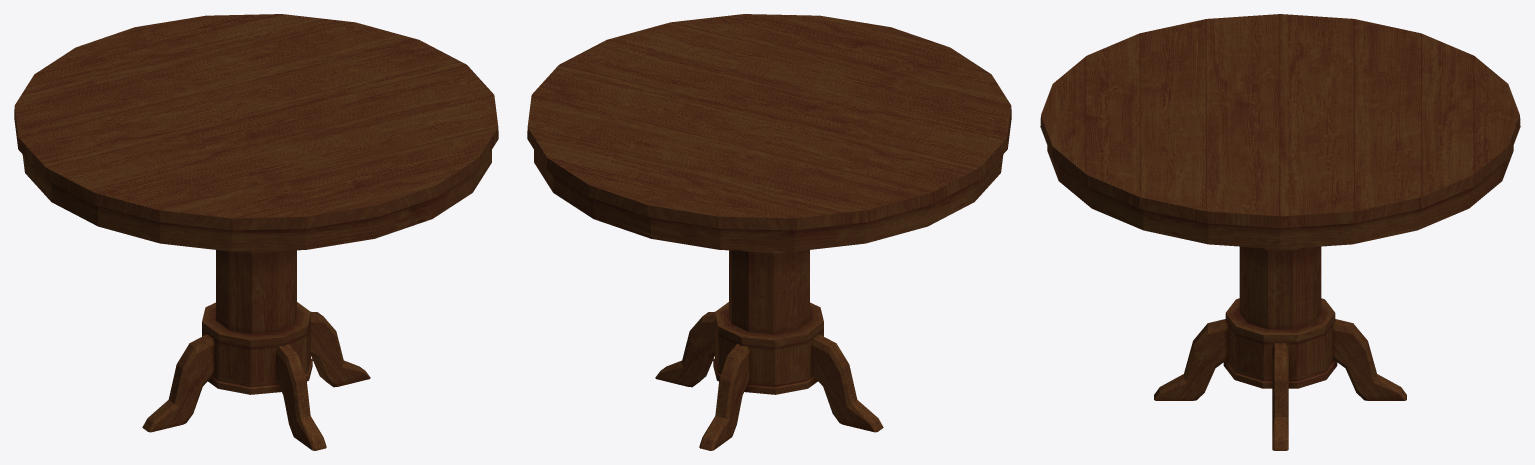
Rendered from table_pedestal_circ_legs_clean.fbx.
3 views of the same model, side by side, from view 1: azimuth 30°, elevation 25°; view 2: azimuth 150°, elevation 25°; view 3: azimuth 270°, elevation 25° (orthographic).
Visible parts, largest first — view 1: table_pedestal_circ_legs; view 2: table_pedestal_circ_legs; view 3: table_pedestal_circ_legs.
Part boxes in pixels (bbox=[...]): table_pedestal_circ_legs: bbox=[14, 14, 498, 450]; table_pedestal_circ_legs: bbox=[527, 14, 1011, 450]; table_pedestal_circ_legs: bbox=[1040, 14, 1520, 450].
Size of the model in its own units: 2 by 1.3 by 2.
